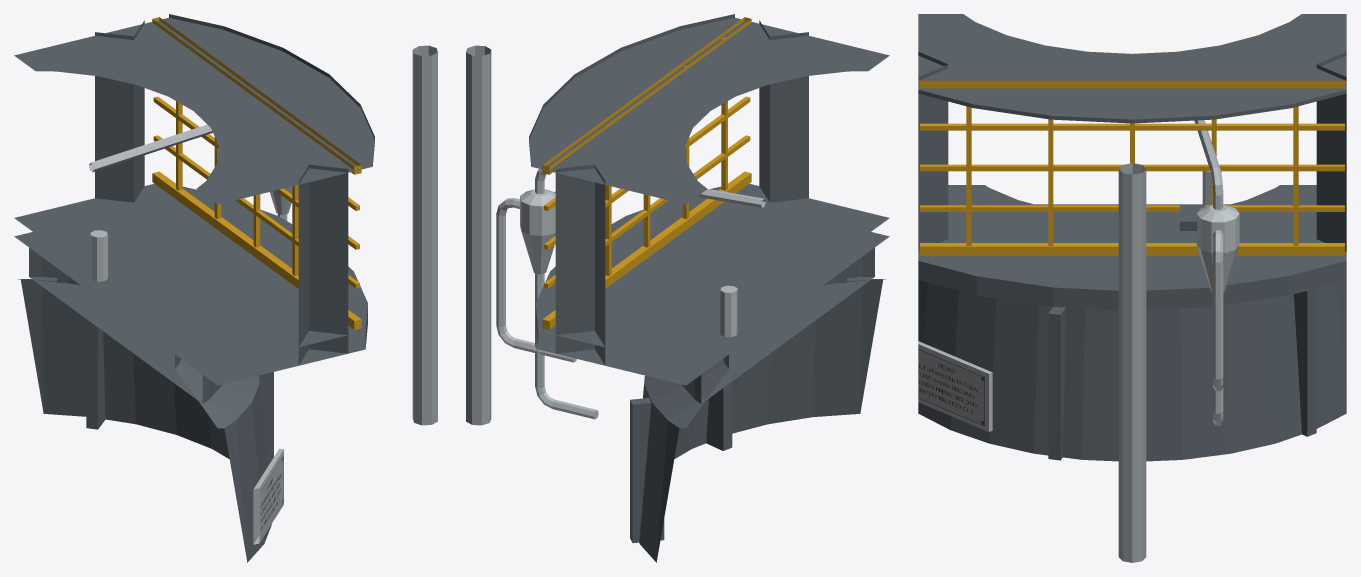
Rendered from cell_42.obj.
The picture shows the model from 3 angles, left to right: view 1: azimuth 30°, elevation 25°; view 2: azimuth 150°, elevation 25°; view 3: azimuth 270°, elevation 25°; orthographic projection. The views are drawn at different scales.
Size of the model in its own units: 0.909 by 1 by 1.
